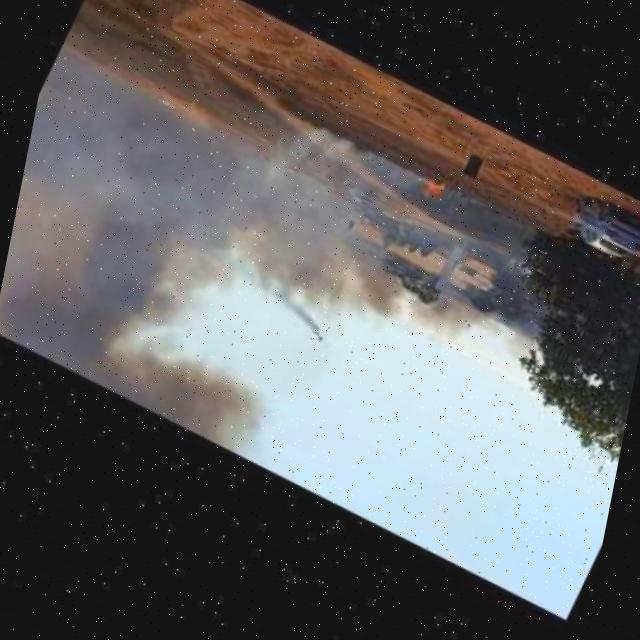fire: (418, 180, 446, 212)
